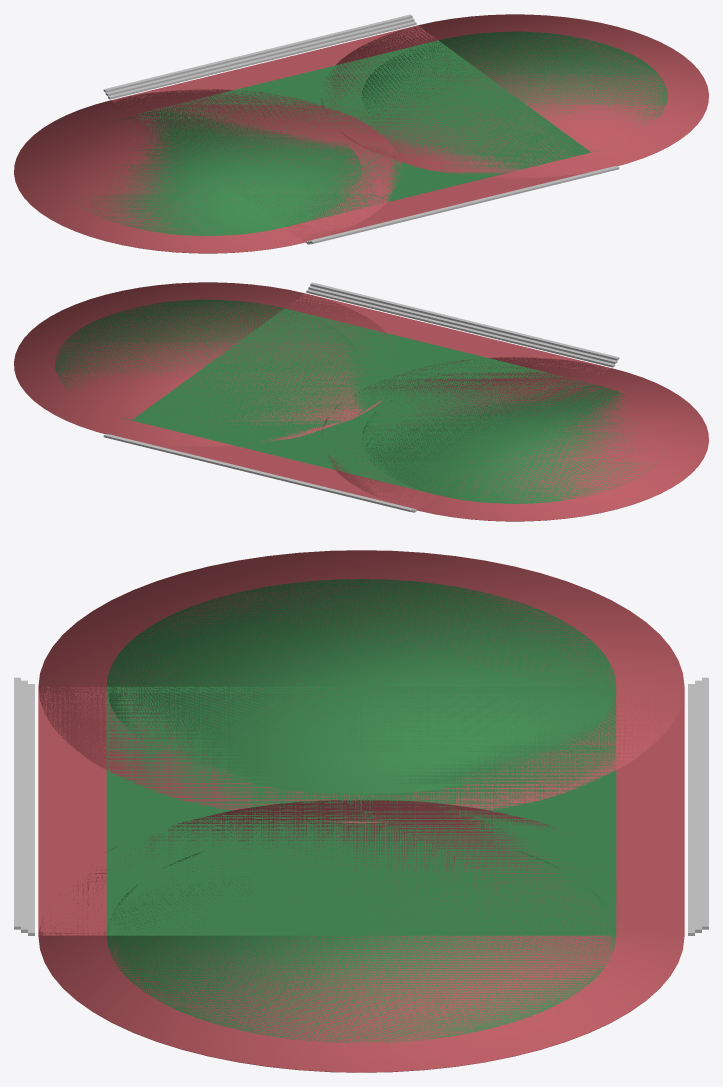
Rendered from Stadium.glb.
3 renders of one model, top to bottom at view 1: azimuth 30°, elevation 25°; view 2: azimuth 150°, elevation 25°; view 3: azimuth 270°, elevation 25°, orthographic. The views are drawn at different scales.
Parts seen in each view (by area): view 1: Stadium_Track_Curve_Left, Stadium_Grass_Center, Stadium_Track_Curve_Right, Stadium_Grass_Curve_Left, Stadium_Grass_Curve_Right, Stadium_Track_Straight_Top, Stadium_Track_Straight_Bottom, Stadium_Bleacher_Bottom_Tier_3, Stadium_Bleacher_Top_Tier_1, Stadium_Bleacher_Top_Tier_2, Stadium_Bleacher_Top_Tier_3; view 2: Stadium_Grass_Center, Stadium_Track_Curve_Right, Stadium_Track_Curve_Left, Stadium_Grass_Curve_Left, Stadium_Grass_Curve_Right, Stadium_Track_Straight_Top, Stadium_Track_Straight_Bottom, Stadium_Bleacher_Bottom_Tier_1, Stadium_Bleacher_Bottom_Tier_2, Stadium_Bleacher_Top_Tier_3, Stadium_Bleacher_Bottom_Tier_3; view 3: Stadium_Grass_Center, Stadium_Grass_Curve_Left, Stadium_Track_Curve_Right, Stadium_Track_Curve_Left, Stadium_Grass_Curve_Right, Stadium_Track_Straight_Top, Stadium_Track_Straight_Bottom, Stadium_Bleacher_Bottom_Tier_2, Stadium_Bleacher_Bottom_Tier_3, Stadium_Bleacher_Top_Tier_2, Stadium_Bleacher_Top_Tier_3, Stadium_Bleacher_Bottom_Tier_1 (+1 smaller).
Boxes of the visible parts, x1,y1,x2,y2 form: Stadium_Track_Curve_Left: [14, 89, 401, 253]; Stadium_Grass_Center: [137, 40, 590, 227]; Stadium_Track_Curve_Right: [321, 14, 708, 178]; Stadium_Grass_Curve_Left: [58, 107, 360, 235]; Stadium_Grass_Curve_Right: [362, 31, 667, 160]; Stadium_Track_Straight_Top: [111, 25, 436, 104]; Stadium_Track_Straight_Bottom: [285, 167, 610, 242]; Stadium_Bleacher_Bottom_Tier_3: [310, 166, 619, 243]; Stadium_Bleacher_Top_Tier_1: [108, 21, 416, 99]; Stadium_Bleacher_Top_Tier_2: [105, 18, 414, 95]; Stadium_Bleacher_Top_Tier_3: [103, 14, 412, 92]; Stadium_Grass_Center: [132, 308, 589, 495]; Stadium_Track_Curve_Right: [14, 282, 400, 446]; Stadium_Track_Curve_Left: [321, 357, 708, 521]; Stadium_Grass_Curve_Left: [362, 375, 664, 503]; Stadium_Grass_Curve_Right: [55, 299, 360, 428]; Stadium_Track_Straight_Top: [123, 437, 436, 510]; Stadium_Track_Straight_Bottom: [292, 293, 611, 374]; Stadium_Bleacher_Bottom_Tier_1: [306, 289, 614, 367]; Stadium_Bleacher_Bottom_Tier_2: [308, 286, 617, 363]; Stadium_Bleacher_Top_Tier_3: [103, 434, 412, 511]; Stadium_Bleacher_Bottom_Tier_3: [310, 282, 619, 360]; Stadium_Grass_Center: [106, 686, 616, 935]; Stadium_Grass_Curve_Left: [106, 579, 616, 794]; Stadium_Track_Curve_Right: [38, 799, 684, 1072]; Stadium_Track_Curve_Left: [38, 550, 684, 823]; Stadium_Grass_Curve_Right: [106, 828, 616, 1043]; Stadium_Track_Straight_Top: [616, 686, 684, 935]; Stadium_Track_Straight_Bottom: [38, 686, 106, 935]; Stadium_Bleacher_Bottom_Tier_2: [21, 680, 27, 932]; Stadium_Bleacher_Bottom_Tier_3: [14, 677, 20, 929]; Stadium_Bleacher_Top_Tier_2: [695, 680, 701, 932]; Stadium_Bleacher_Top_Tier_3: [702, 677, 708, 929]; Stadium_Bleacher_Bottom_Tier_1: [28, 684, 34, 935].
Size of the model in its own units: 177 by 1.55 by 99.52.
